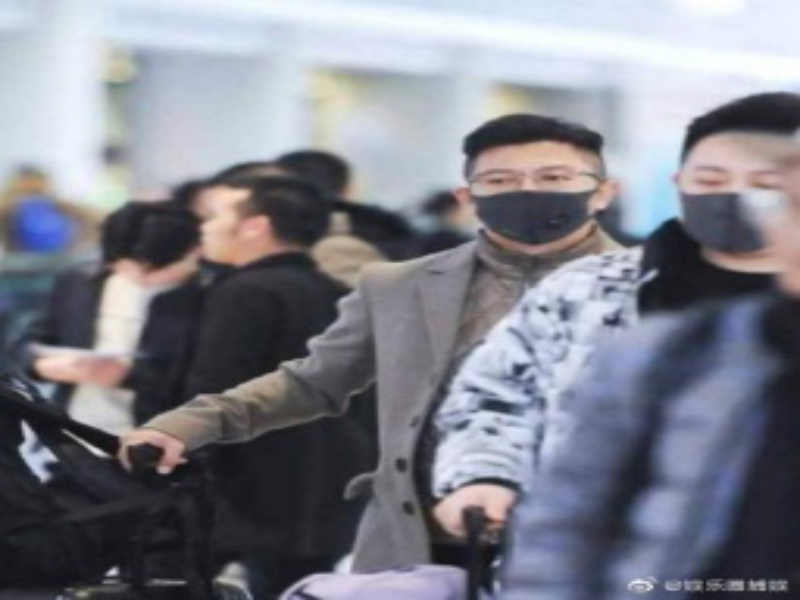ManaoArotava: (452, 107, 618, 267), (676, 93, 800, 282)
